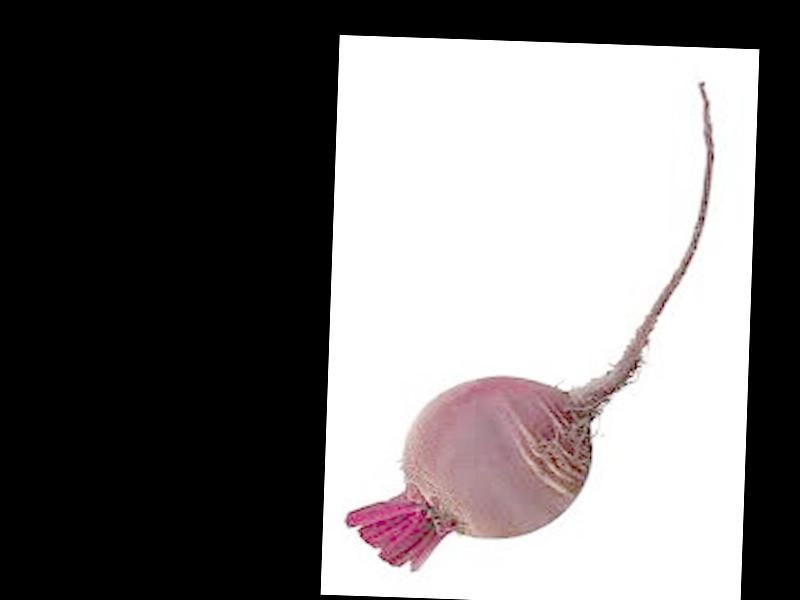Beet: (342, 65, 717, 579)
